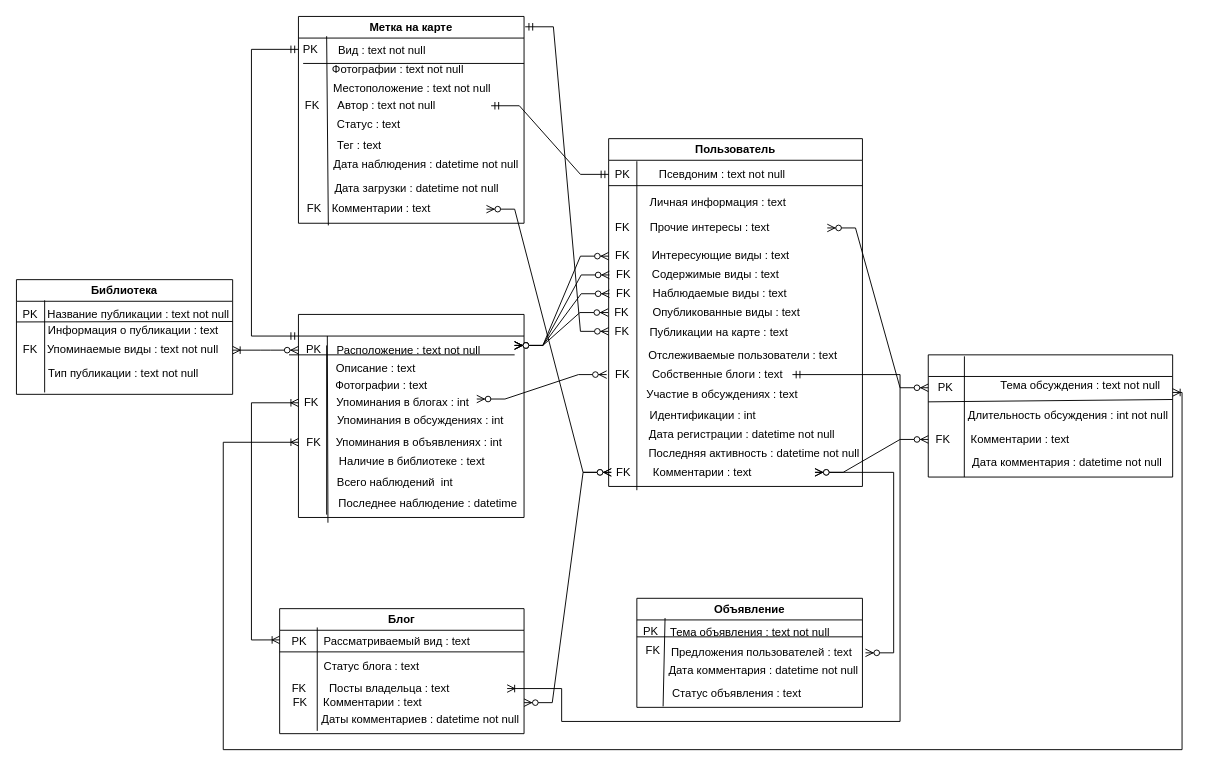
This 1207x775 diagram has some shape labels left out. Here are the shapes that lost their labels. From the top down, the box of each, then its label:
(298, 313, 524, 517): Вид
(927, 354, 1173, 477): Обсуждение
